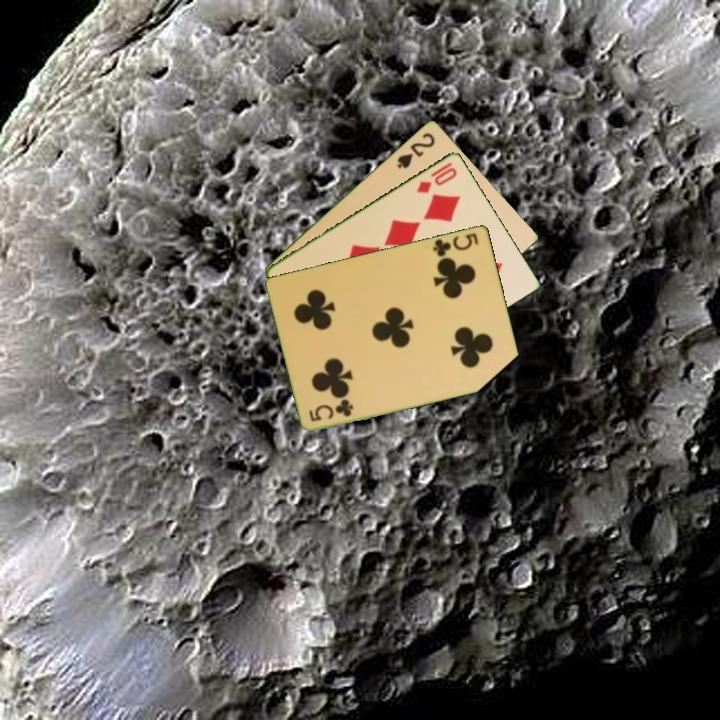10d: (413, 158, 460, 196)
2s: (393, 128, 438, 171)
5c: (429, 229, 481, 259), (305, 396, 357, 424)
